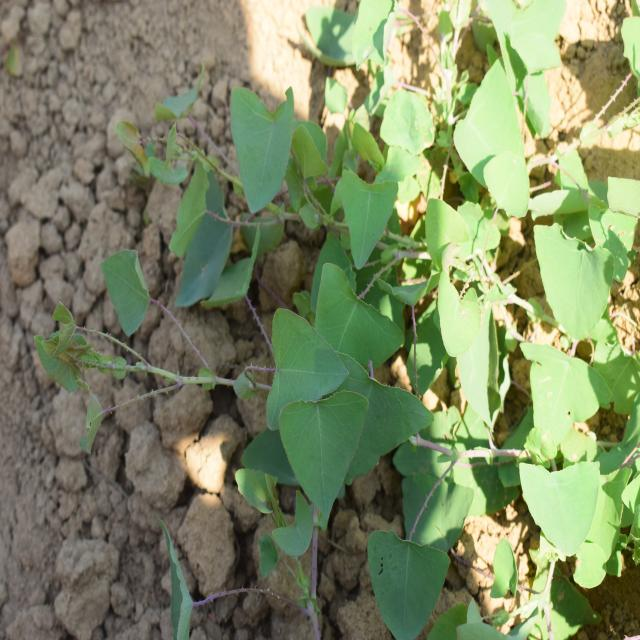Asiatic_Smartweed: (252, 266, 452, 507), (449, 62, 616, 329), (206, 75, 409, 268), (108, 88, 265, 326)
